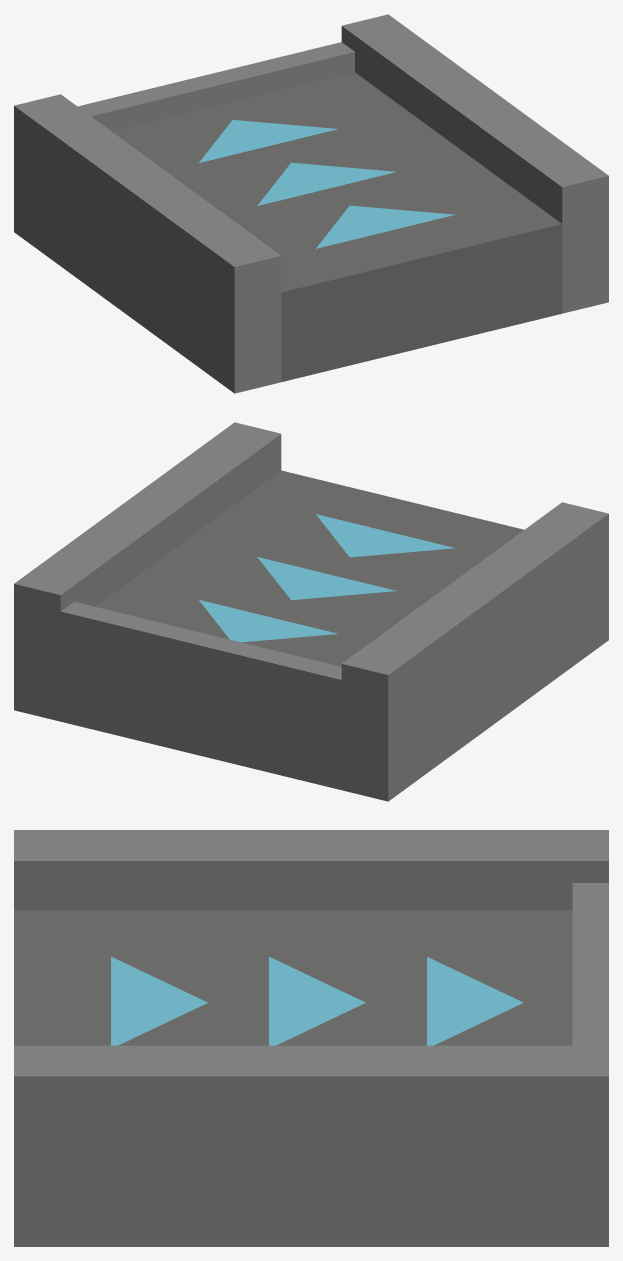
Rendered from vfef_refuel_port.obj.
The picture shows the model from 3 angles, top to bottom: view 1: azimuth 30°, elevation 25°; view 2: azimuth 150°, elevation 25°; view 3: azimuth 270°, elevation 25°; orthographic projection. The views are drawn at different scales.
Parts seen in each view (by area): view 1: vfef_refuel_port_0, vfef_refuel_port_2, vfef_refuel_port_3, vfef_refuel_port_4, vfef_refuel_port_1; view 2: vfef_refuel_port_2, vfef_refuel_port_0, vfef_refuel_port_4, vfef_refuel_port_3, vfef_refuel_port_1; view 3: vfef_refuel_port_3, vfef_refuel_port_0, vfef_refuel_port_2, vfef_refuel_port_1, vfef_refuel_port_4.
Part boxes in pixels (x1,y1,x2,y2): vfef_refuel_port_0: [112, 72, 562, 381]; vfef_refuel_port_2: [14, 94, 281, 393]; vfef_refuel_port_3: [341, 14, 608, 313]; vfef_refuel_port_4: [78, 42, 354, 131]; vfef_refuel_port_1: [199, 120, 455, 248]; vfef_refuel_port_2: [341, 502, 608, 801]; vfef_refuel_port_0: [95, 470, 524, 666]; vfef_refuel_port_4: [60, 601, 341, 789]; vfef_refuel_port_3: [14, 422, 281, 721]; vfef_refuel_port_1: [199, 514, 455, 642]; vfef_refuel_port_3: [14, 1045, 608, 1246]; vfef_refuel_port_0: [14, 910, 572, 1045]; vfef_refuel_port_2: [14, 830, 608, 910]; vfef_refuel_port_1: [111, 956, 523, 1045]; vfef_refuel_port_4: [572, 883, 608, 1045].
Bounding box in the file's own units: 0.96 × 0.31 × 0.98.
